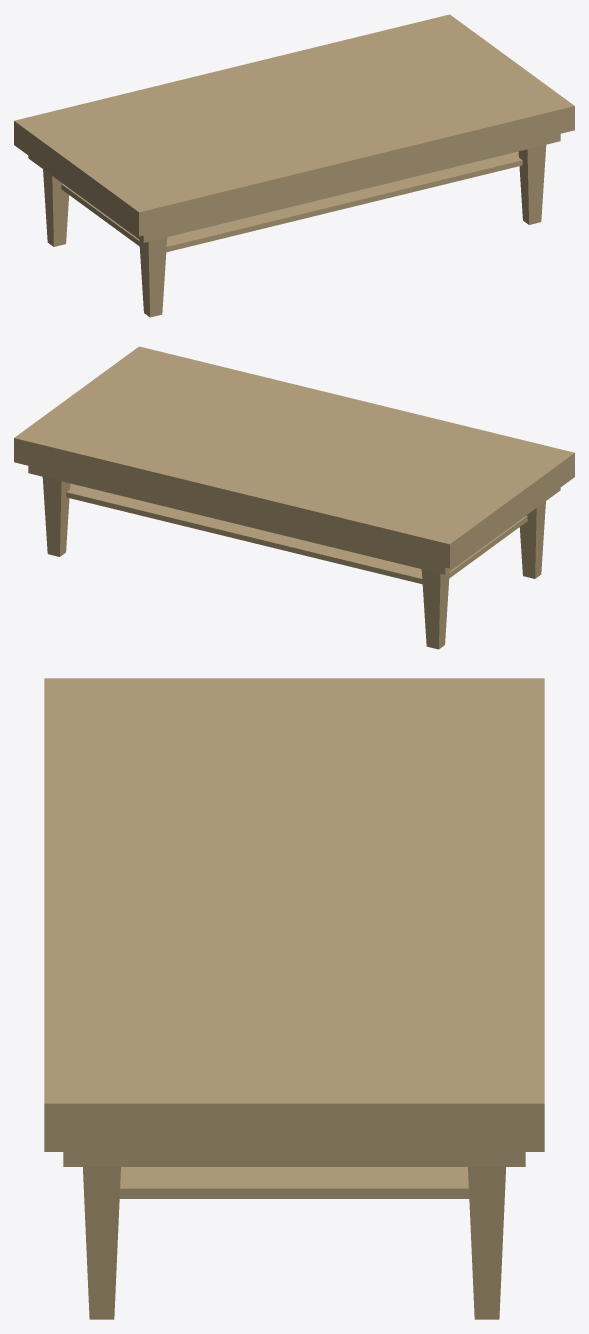
Rendered from Mesa.obj.
3 views of the same model, one above another, from view 1: azimuth 30°, elevation 25°; view 2: azimuth 150°, elevation 25°; view 3: azimuth 270°, elevation 25° (orthographic). The views are drawn at different scales.
Visible parts, largest first — view 1: Mesa_pCube3, Mesa_pCube4, Mesa_pCube2, pPyramid2polySurface2, polySurface3pPyramid2, pPyramid2polySurface5; view 2: Mesa_pCube3, Mesa_pCube4, Mesa_pCube2, pPyramid2polySurface5, pPyramid2polySurface4, pPyramid2polySurface2; view 3: Mesa_pCube3, Mesa_pCube4, Mesa_pCube2, pPyramid2polySurface4, polySurface3pPyramid2.
Boxes of the visible parts, <box> form: Mesa_pCube3: <box>14,14,574,236</box>; Mesa_pCube4: <box>61,151,522,252</box>; Mesa_pCube2: <box>28,134,560,242</box>; pPyramid2polySurface2: <box>139,237,167,317</box>; polySurface3pPyramid2: <box>518,145,546,224</box>; pPyramid2polySurface5: <box>43,169,69,246</box>; Mesa_pCube3: <box>14,346,574,568</box>; Mesa_pCube4: <box>66,483,527,584</box>; Mesa_pCube2: <box>28,466,560,574</box>; pPyramid2polySurface5: <box>421,569,449,649</box>; pPyramid2polySurface4: <box>42,477,70,556</box>; pPyramid2polySurface2: <box>519,501,545,578</box>; Mesa_pCube3: <box>44,678,544,1151</box>; Mesa_pCube4: <box>119,1167,469,1198</box>; Mesa_pCube2: <box>63,1152,525,1166</box>; pPyramid2polySurface4: <box>468,1167,505,1319</box>; polySurface3pPyramid2: <box>83,1167,120,1319</box>.
Bounding box in the file's own units: 3.16 × 0.8246 × 1.57.
1 material, 1 textured.
